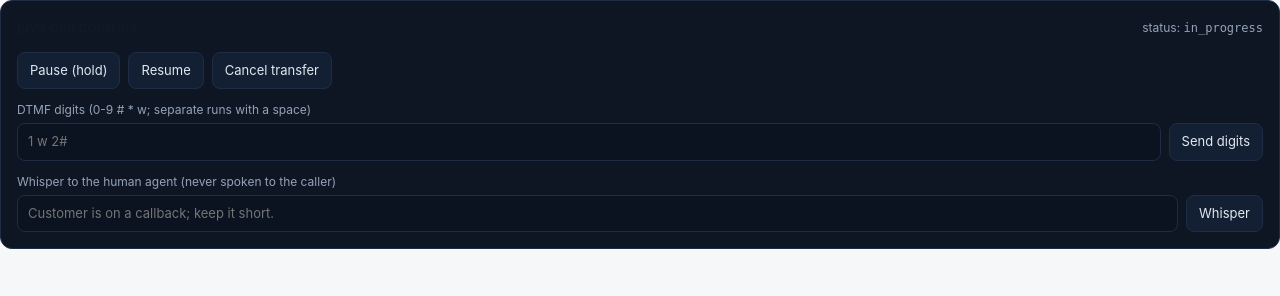
CallControlBar › sends a DTMF batch and reports the per-item outcome
In the field with test id "call-control-dtmf-input": (589, 142) [17, 123, 1161, 160], type "1 2"
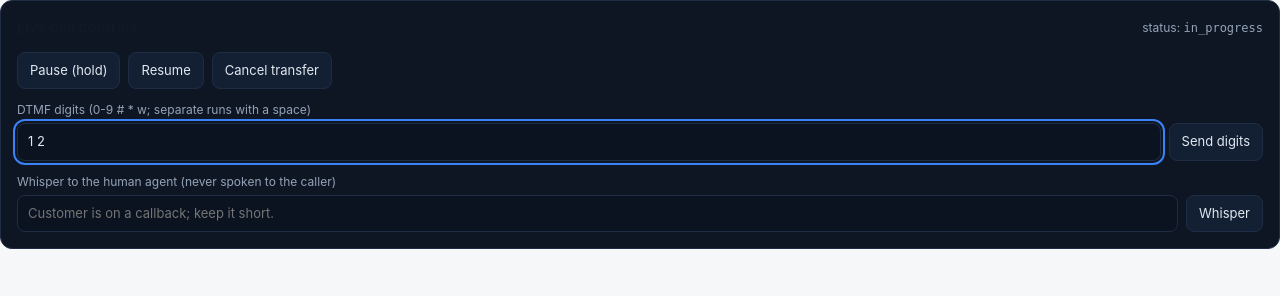
Click the button with test id "call-control-dtmf-send": (1216, 142) [1169, 123, 1263, 160]
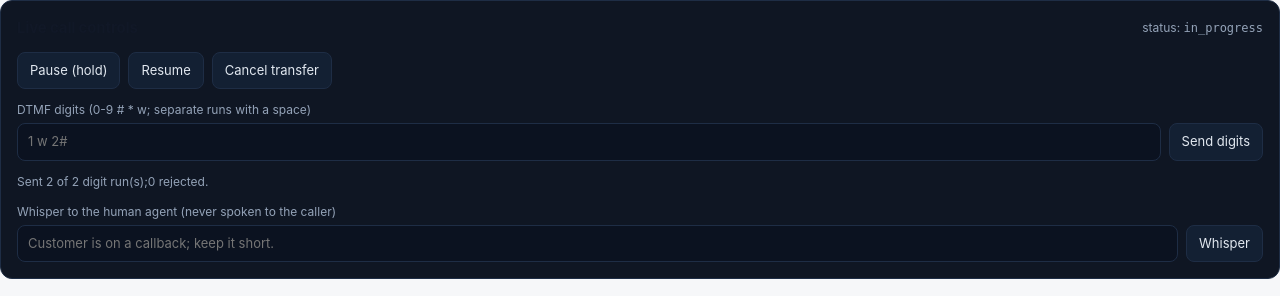
expect the text with test id "call-control-dtmf-result" shows "Sent 2 of 2": met, box [17, 174, 208, 188]
